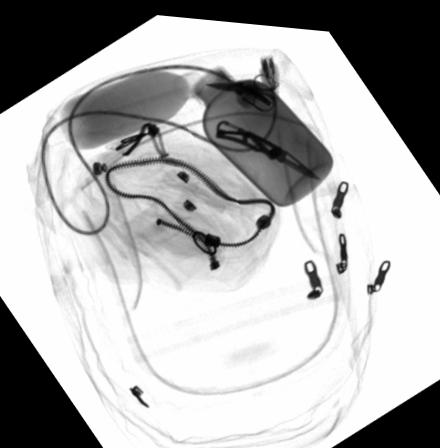Knife: (213, 115, 320, 173)
Scissors: (205, 65, 277, 107)
